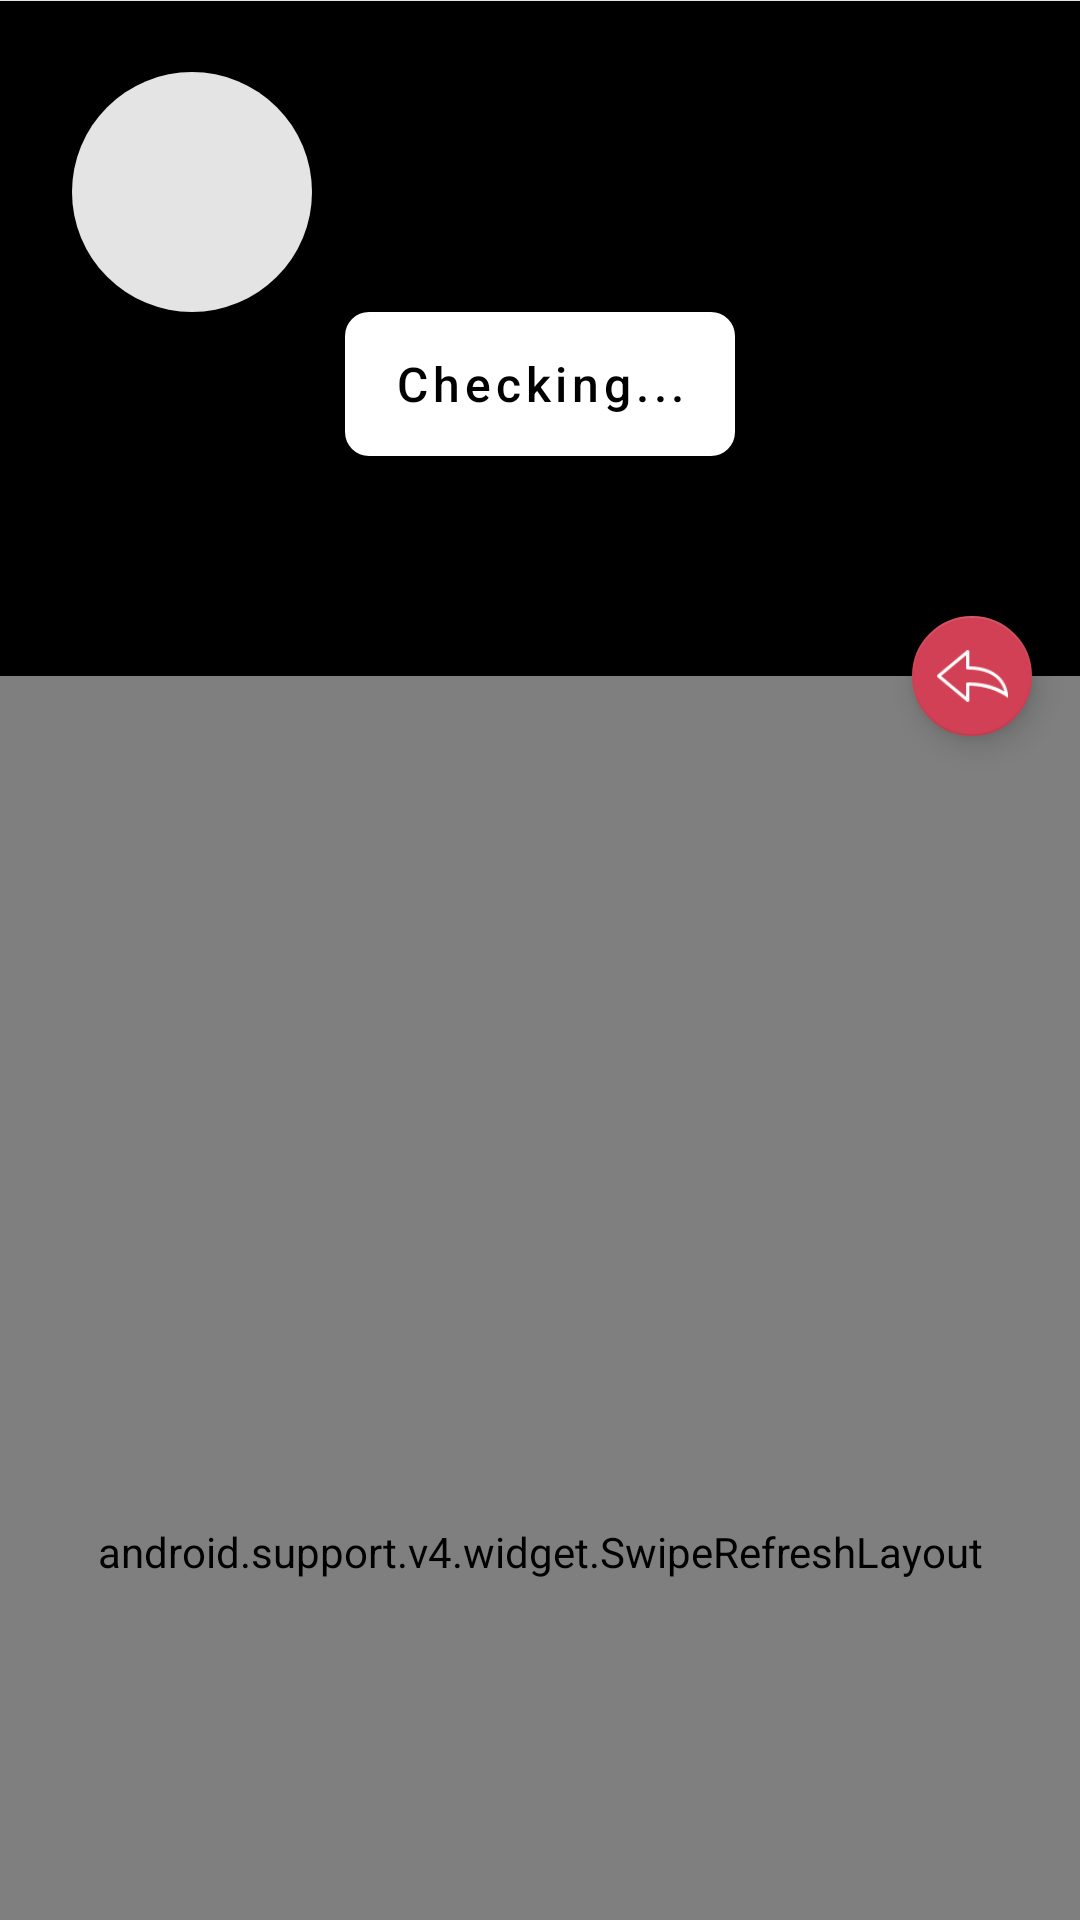

Screen size 1080×1920. Icon name, then its center in pixels as (x,y):
reply: (972,676)
